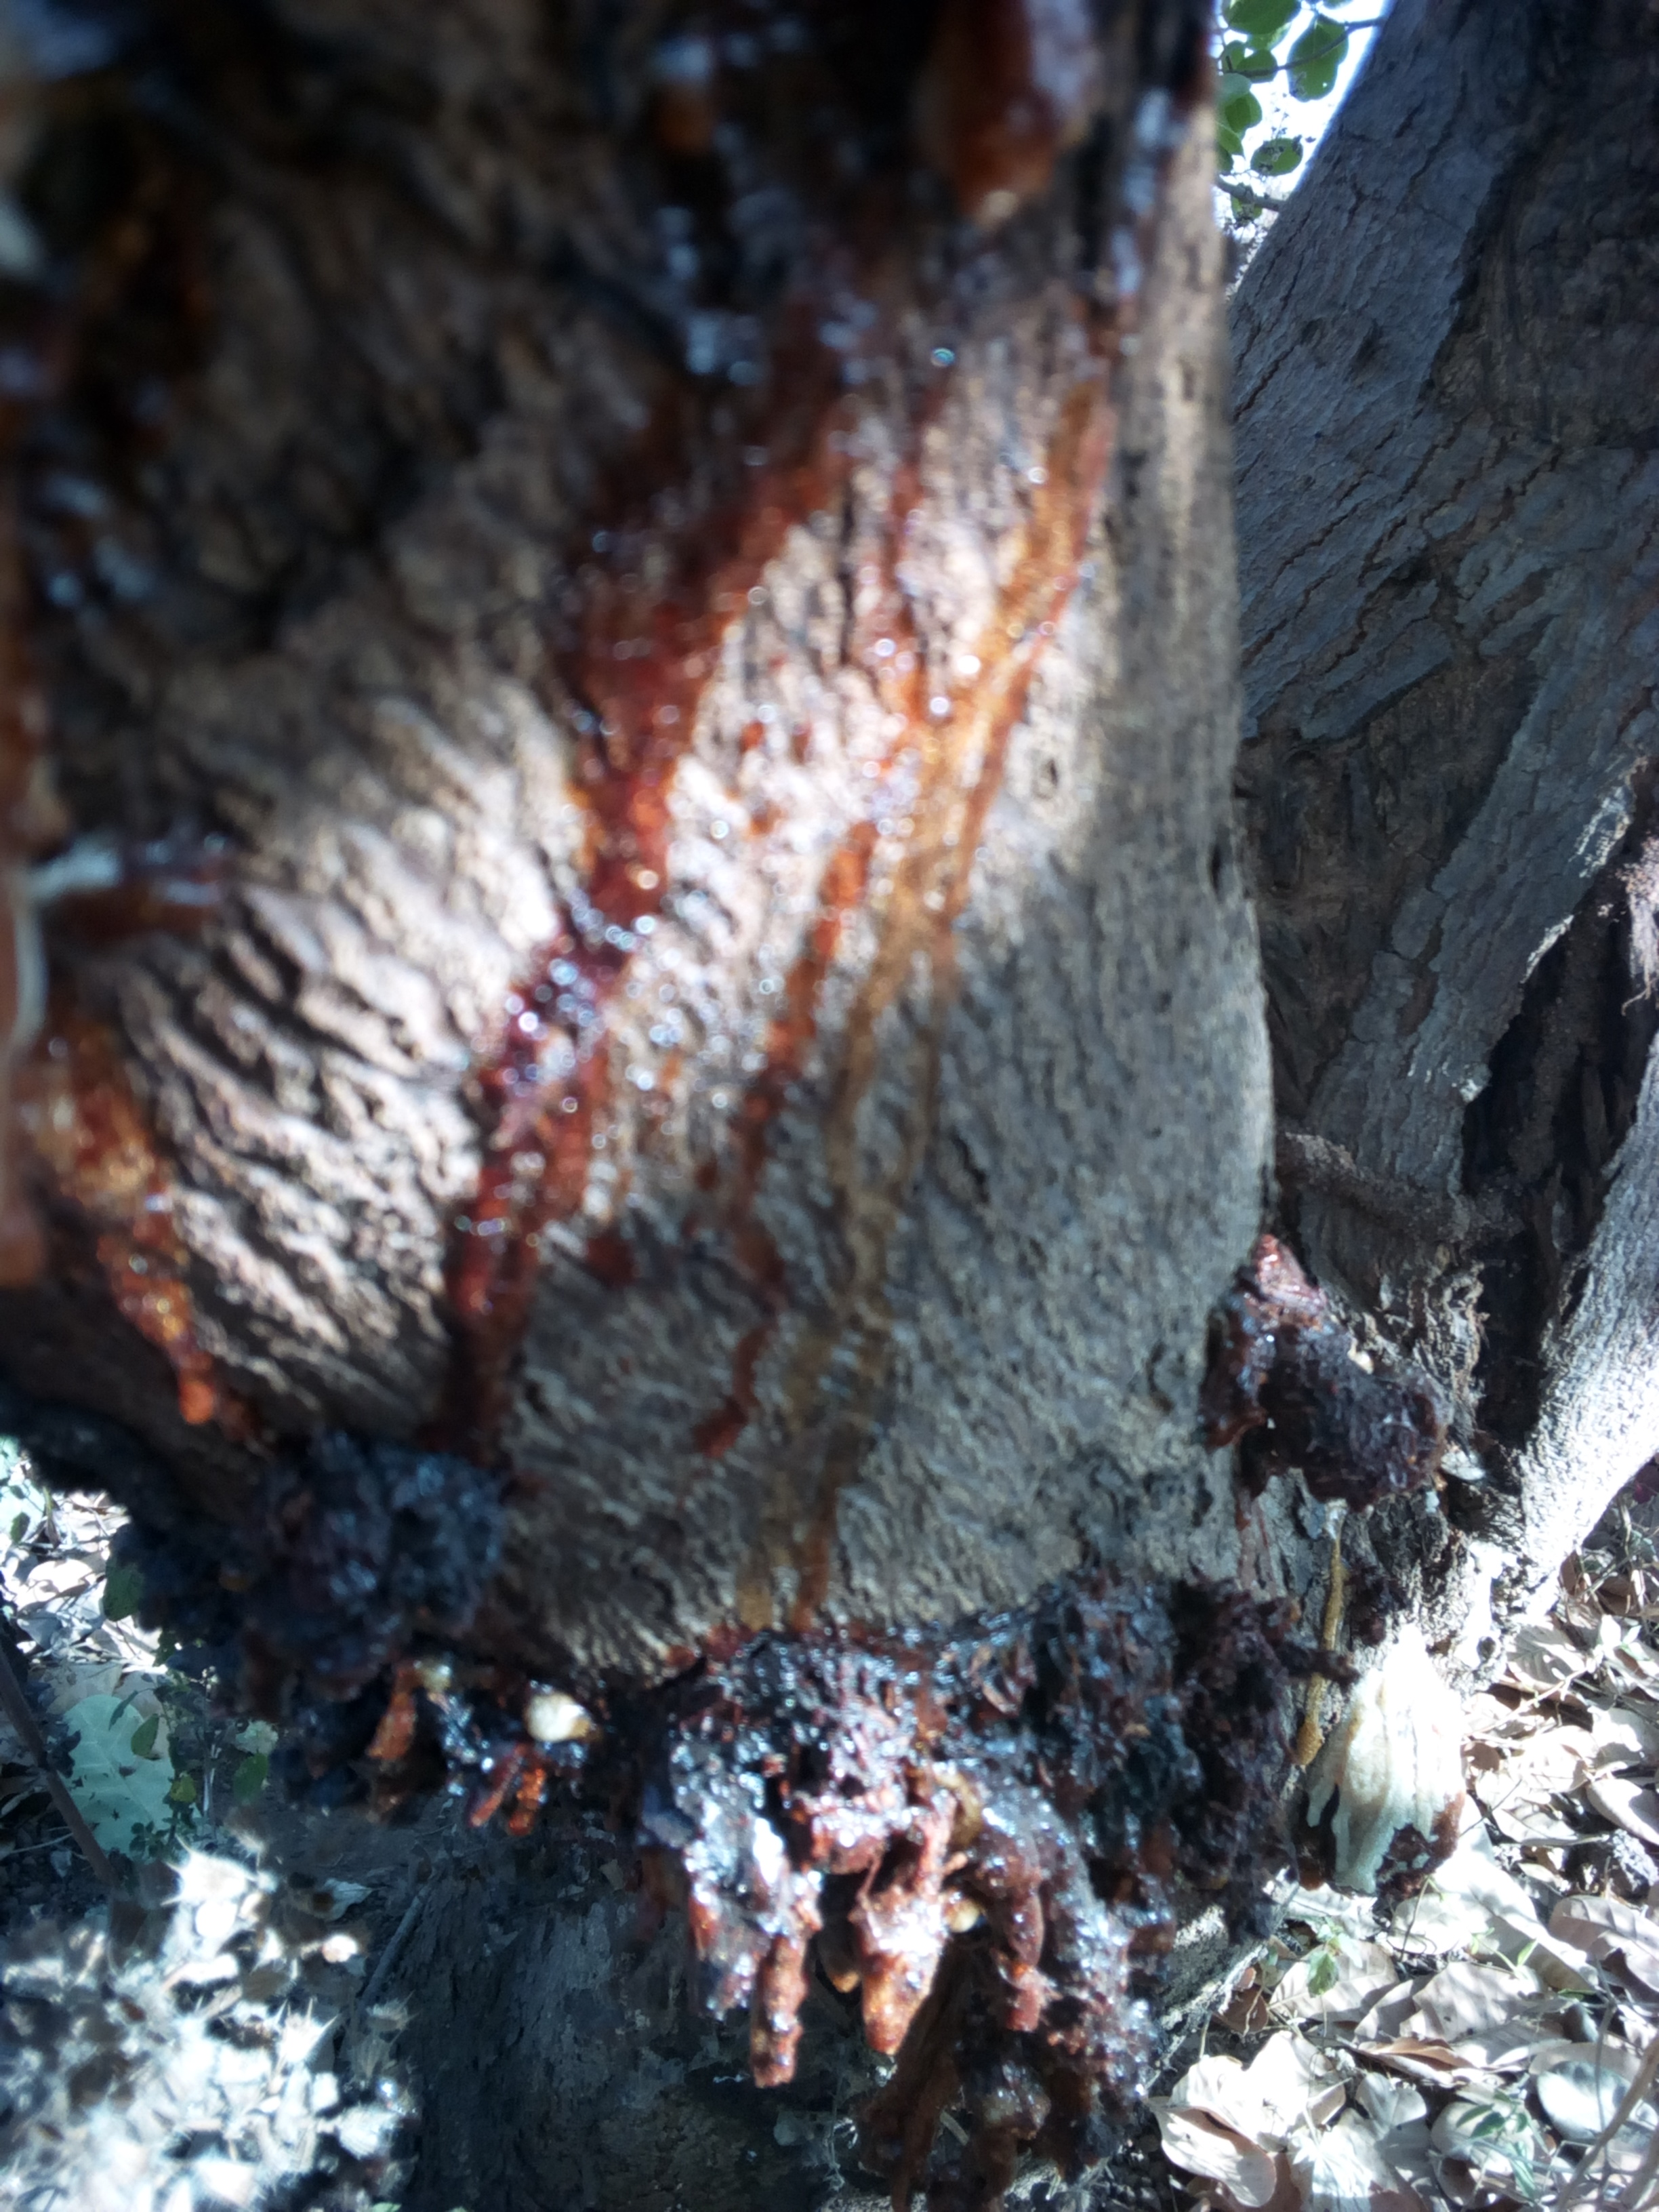Gommose: (504, 0, 1168, 2097), (115, 1468, 467, 1683)
